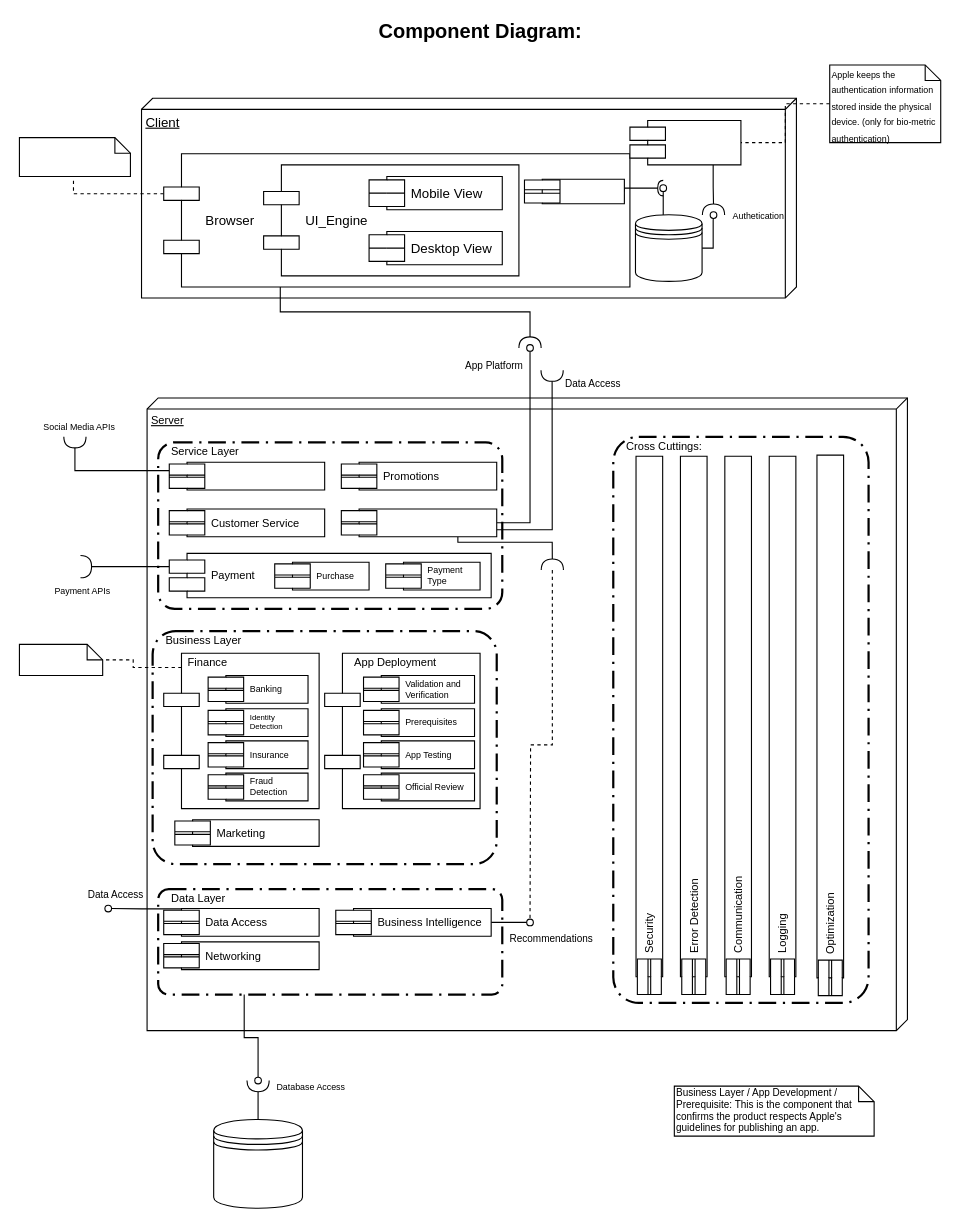
The diagram is 960 pixels wide and 1228 high, and some of its shapes have lost their labels. The shapes that lost their labels are listed below. From the top down, each one's centre as x and y in pixels, then its label:
(x=74, y=156): Platform can be viewed on various devices
(x=685, y=142): Mobile Authentication
(x=573, y=191): Download
(x=668, y=247): Isolated Storage
(x=246, y=475): Social Media Access
(x=418, y=522): Browse
(x=60, y=659): B2B Finances
(x=257, y=1163): Database
